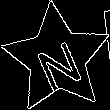N_NW: (29, 28, 85, 90)
